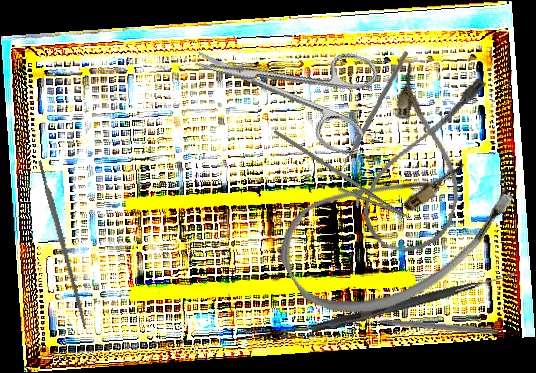Cannula: (263, 112, 531, 347), (355, 57, 492, 264)
Chopper: (323, 50, 415, 174)
Hook Surgical: (310, 267, 517, 336), (358, 314, 500, 336)
Iris Scissors: (182, 8, 386, 158)
Needle Holder: (260, 129, 415, 229)
Scalpel Handle: (37, 159, 89, 330)
